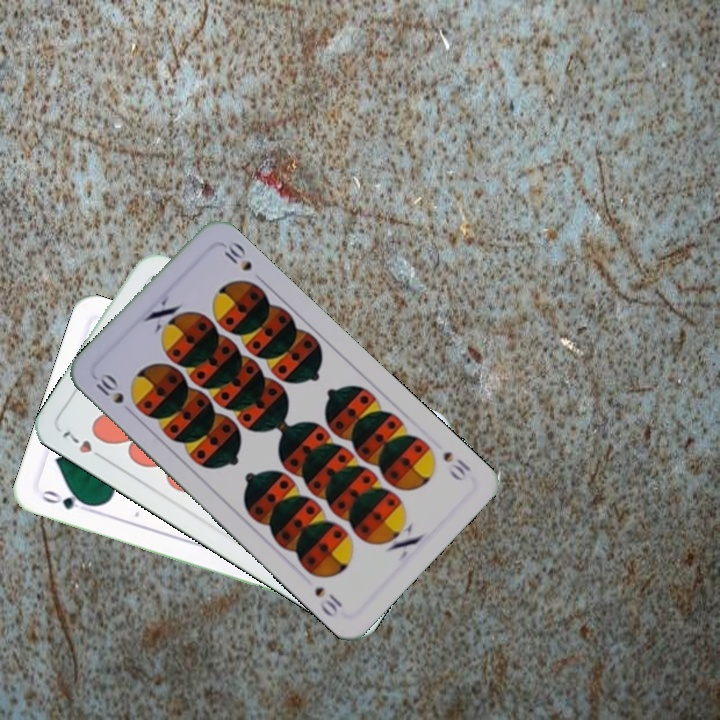GO: (37, 486, 95, 515)
H7: (57, 427, 109, 463)
S10: (91, 369, 127, 407), (439, 447, 474, 484)
